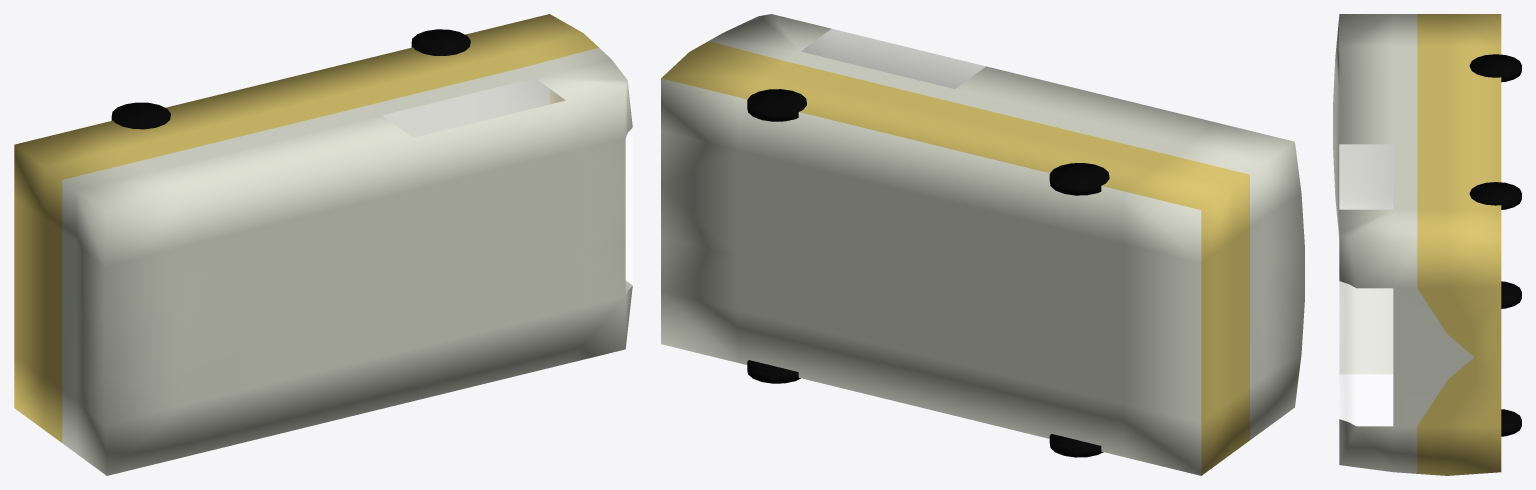
File: asset17.glb
3 renders of one model, left to right at view 1: azimuth 30°, elevation 25°; view 2: azimuth 150°, elevation 25°; view 3: azimuth 270°, elevation 25°, orthographic. The views are drawn at different scales.
Parts seen in each view (by area): view 1: Cube1, Cylinder2_copy4, Cylinder2; view 2: Cube1, Cylinder2_copy4, Cylinder2, Cylinder2_copy6, Cylinder2_copy5; view 3: Cube1, Cylinder2, Cylinder2_copy4, Cylinder2_copy5, Cylinder2_copy6.
Boxes of the visible parts, x1=… form: Cube1: x1=14, y1=14, x2=632, y2=475; Cylinder2_copy4: x1=111, y1=102, x2=170, y2=129; Cylinder2: x1=411, y1=29, x2=470, y2=55; Cube1: x1=661, y1=14, x2=1304, y2=475; Cylinder2_copy4: x1=1049, y1=163, x2=1109, y2=195; Cylinder2: x1=747, y1=89, x2=806, y2=121; Cylinder2_copy6: x1=1049, y1=434, x2=1103, y2=457; Cylinder2_copy5: x1=747, y1=360, x2=800, y2=383; Cube1: x1=1333, y1=14, x2=1501, y2=475; Cylinder2: x1=1469, y1=182, x2=1521, y2=209; Cylinder2_copy4: x1=1469, y1=54, x2=1521, y2=82; Cylinder2_copy5: x1=1501, y1=409, x2=1521, y2=436; Cylinder2_copy6: x1=1501, y1=281, x2=1521, y2=308.
Size of the model in its own units: 1.02 by 0.4805 by 0.3496.
